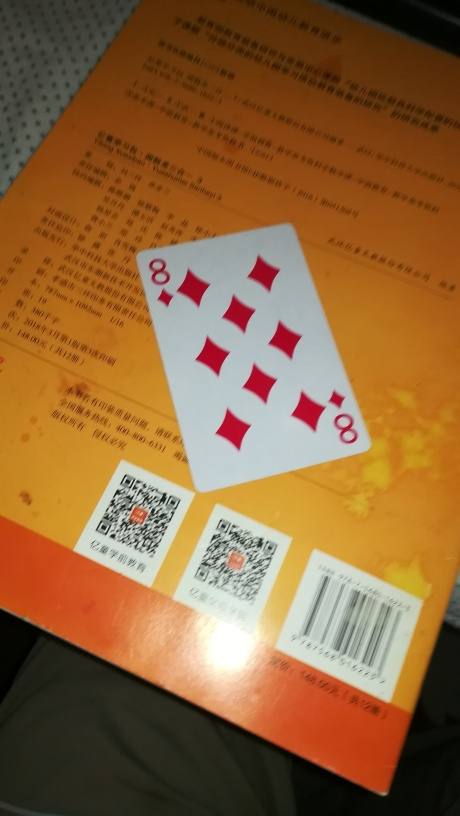fk 8: (136, 220, 371, 492)
